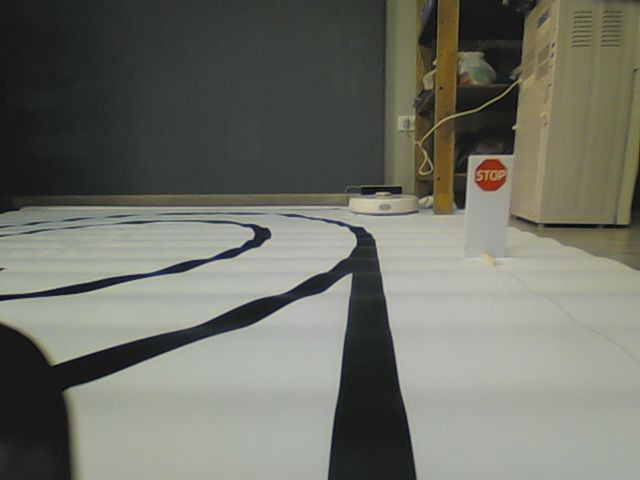Stop: (474, 160, 508, 192)
